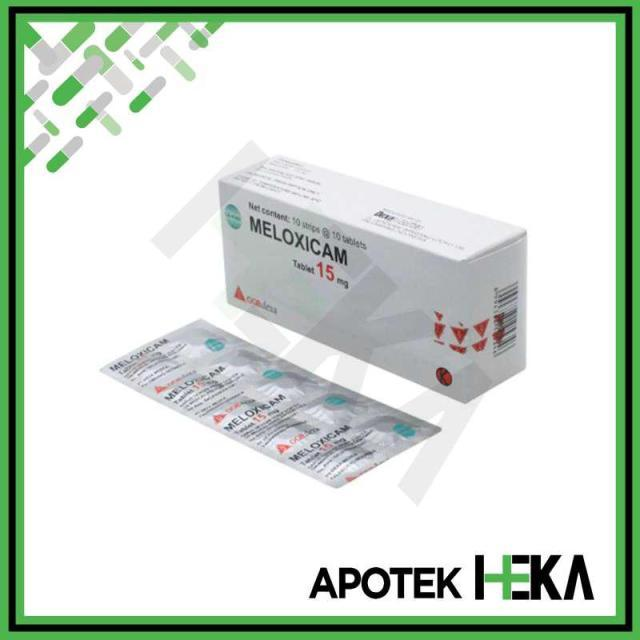drug-name: (243, 210, 355, 272)
